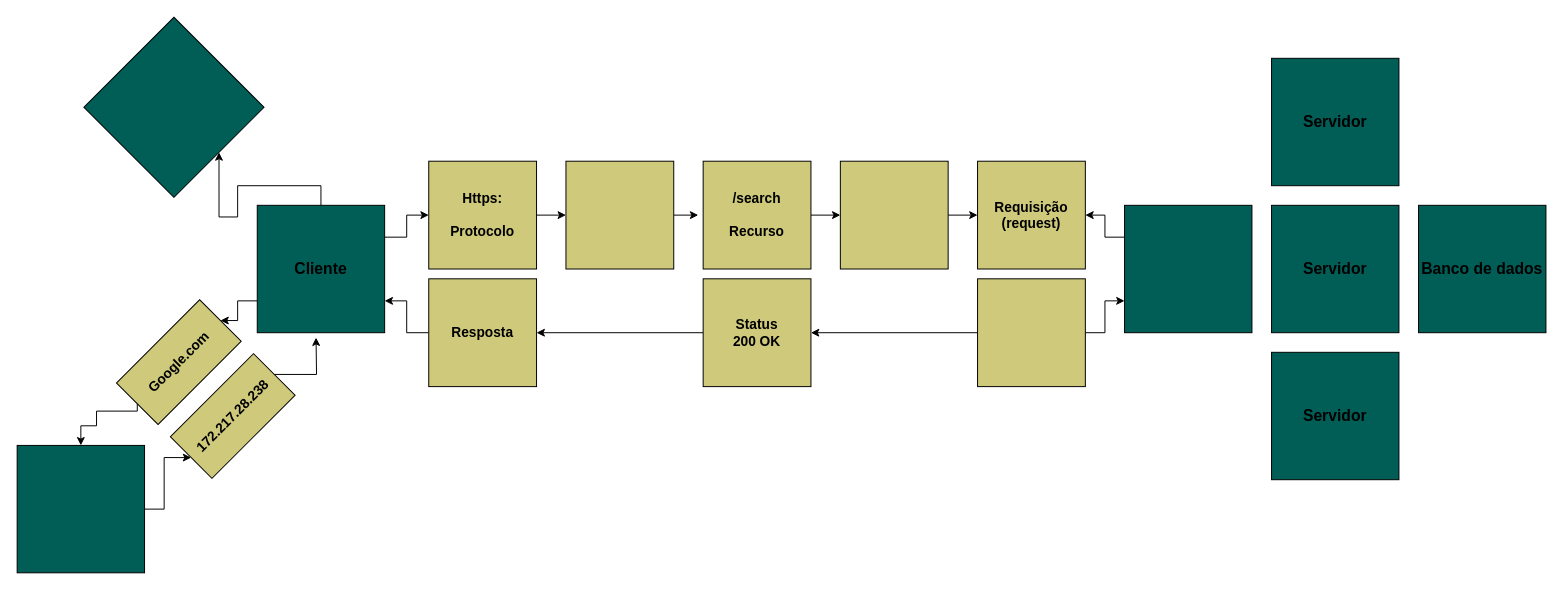
Image size: 1563x591. Some labels were removed from this diagram. Each missing label, with the box of its shape:
Balanceador de carga: (1124, 204, 1252, 333)
CDN: (977, 278, 1085, 387)
DNS: (16, 444, 145, 573)
Engine De Renderização: (83, 16, 264, 198)
Google.com Host: (565, 160, 674, 269)
Verbo Get: (839, 160, 948, 269)
